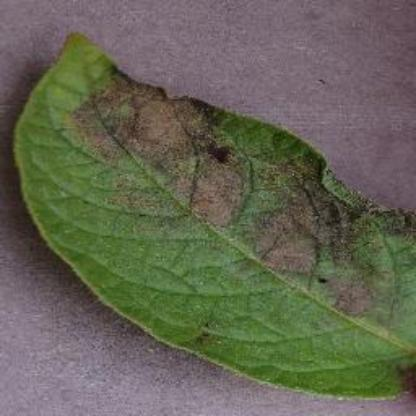Late-Blight: (27, 13, 415, 409)
